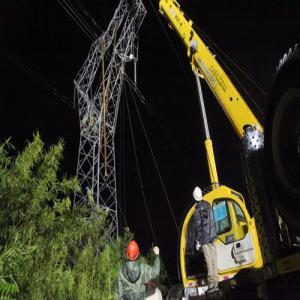red: (127, 240, 141, 264)
white: (193, 186, 204, 206)
